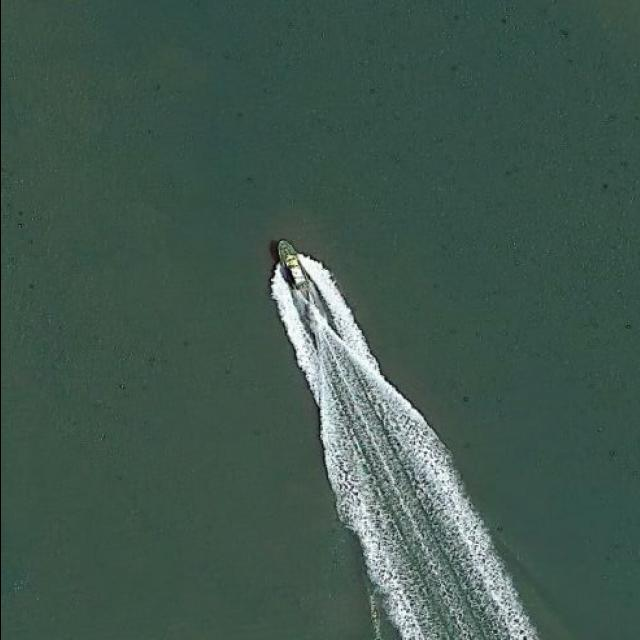ship: (272, 237, 312, 295)
